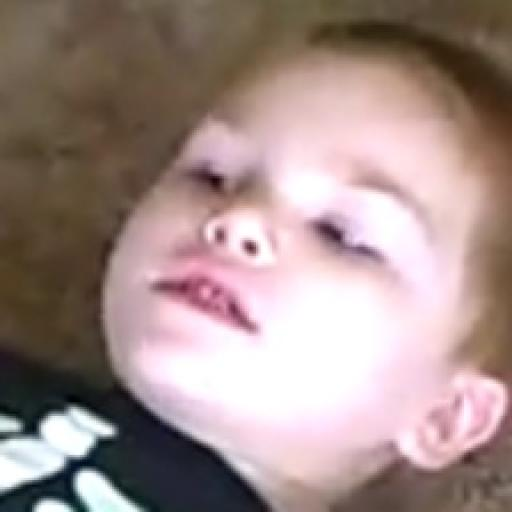Autism: (66, 11, 512, 400)
